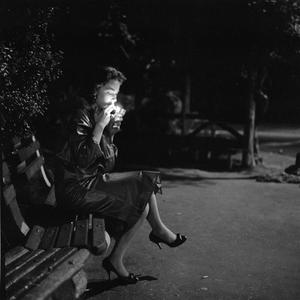cigarette: (109, 102, 123, 116)
